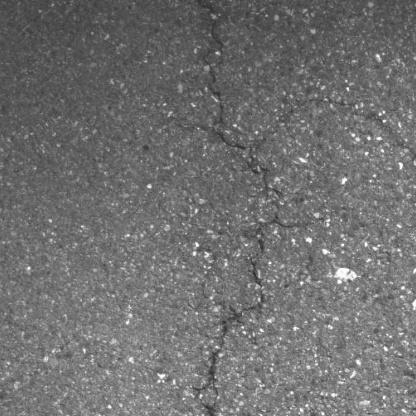Cracks: (192, 161, 304, 416), (192, 0, 252, 156)
